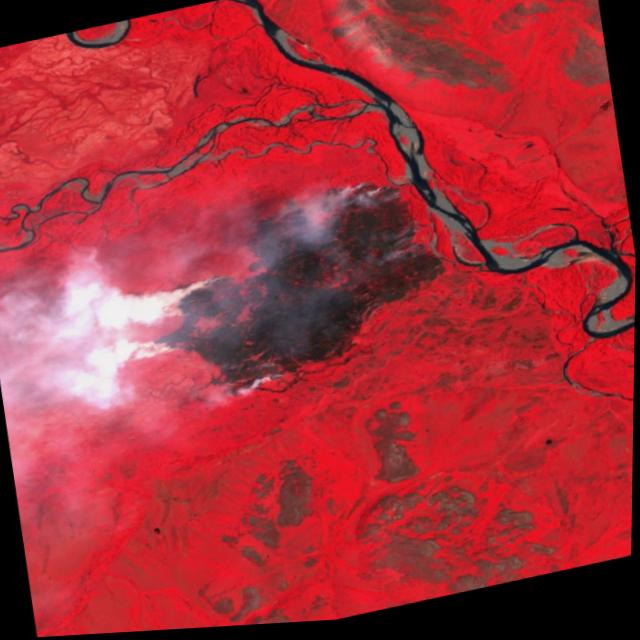fire: (122, 167, 455, 414)
